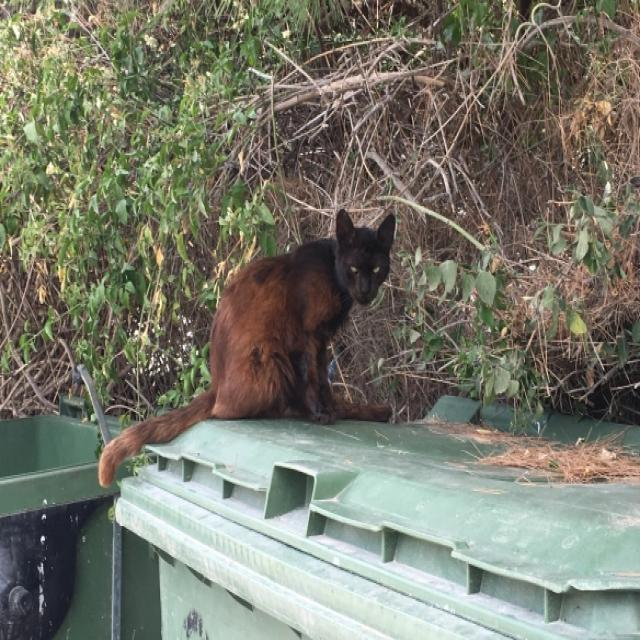cat: (99, 210, 395, 486)
